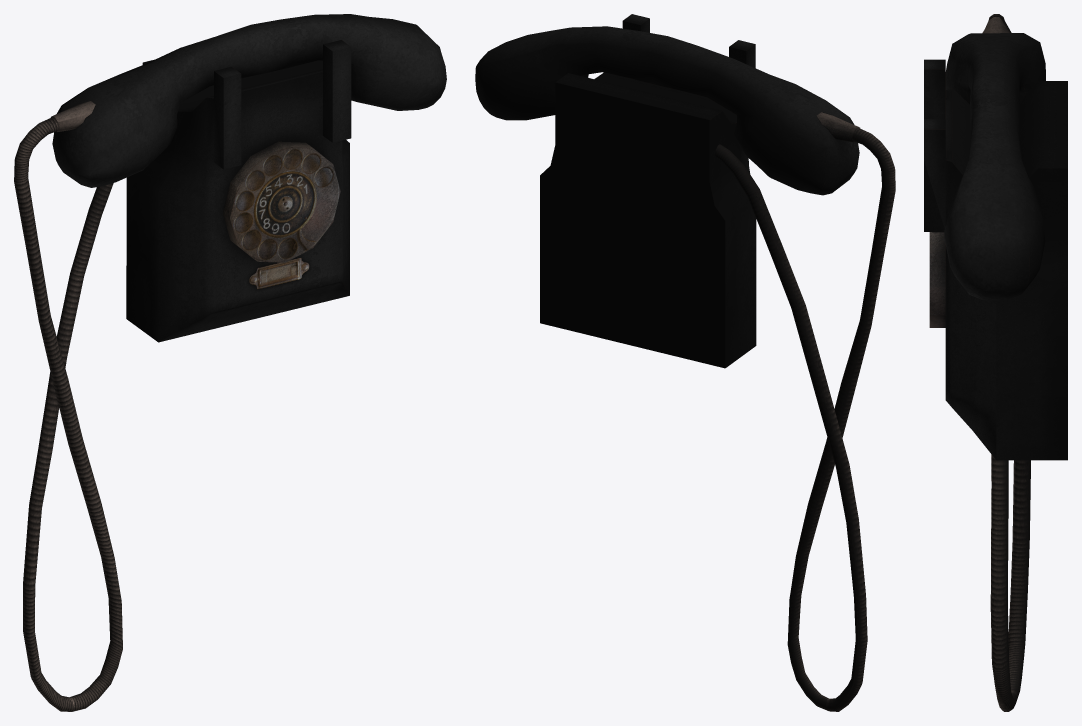
The model's file is WallPhone.obj.
3 renders of one model, left to right at view 1: azimuth 30°, elevation 25°; view 2: azimuth 150°, elevation 25°; view 3: azimuth 270°, elevation 25°, orthographic. The views are drawn at different scales.
Visible parts, largest first — view 1: Cube_001; view 2: Cube_001; view 3: Cube_001.
Boxes of the visible parts, box(x1,y1,x2,y2) form: Cube_001: box(14, 14, 446, 711); Cube_001: box(475, 14, 895, 711); Cube_001: box(924, 14, 1067, 711).
Bounding box in the file's own units: 8.96 × 13.06 × 2.35.
